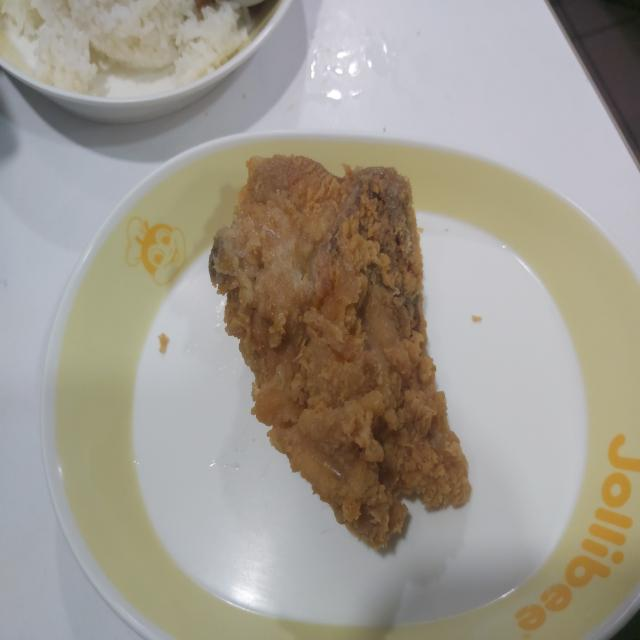Chicken -Fried Chicken-: (203, 136, 478, 570)
